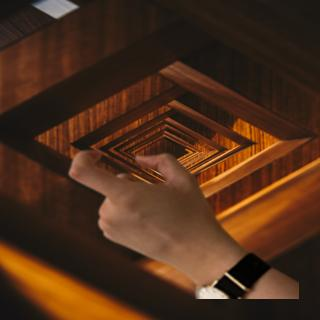HATE: (62, 142, 215, 266)
